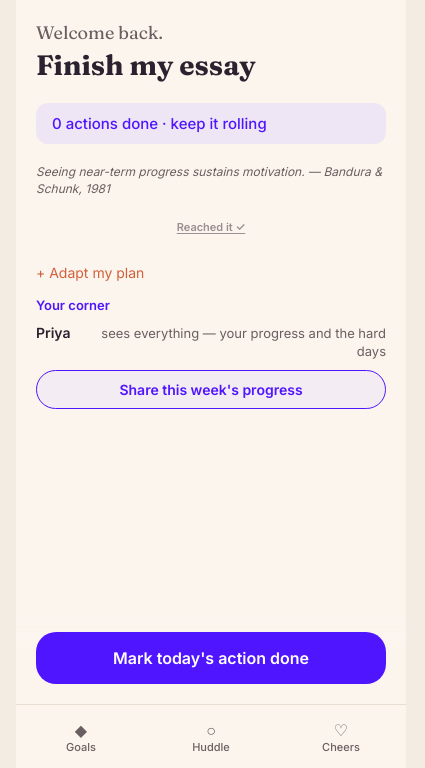
Scenario: switching to the Cheers tab shows the encouragements inbox
The width and height of the screenshot is (425, 768).
Click the button "♡ Cheers": (341, 736) [276,705,406,767]
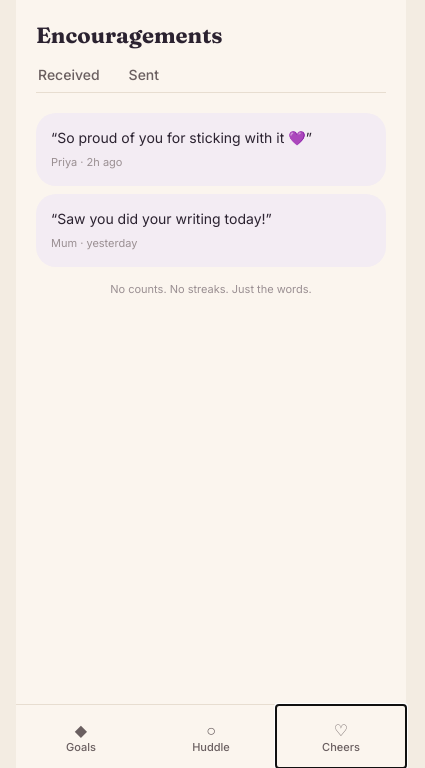
Expected: the heading "Encouragements" is shown, [36,21,222,49]
